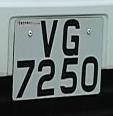0: (79, 54, 100, 94)
2: (35, 55, 58, 99)
5: (58, 55, 81, 96)
7: (15, 57, 37, 100)
G: (60, 17, 83, 58)
V: (38, 17, 61, 61)
